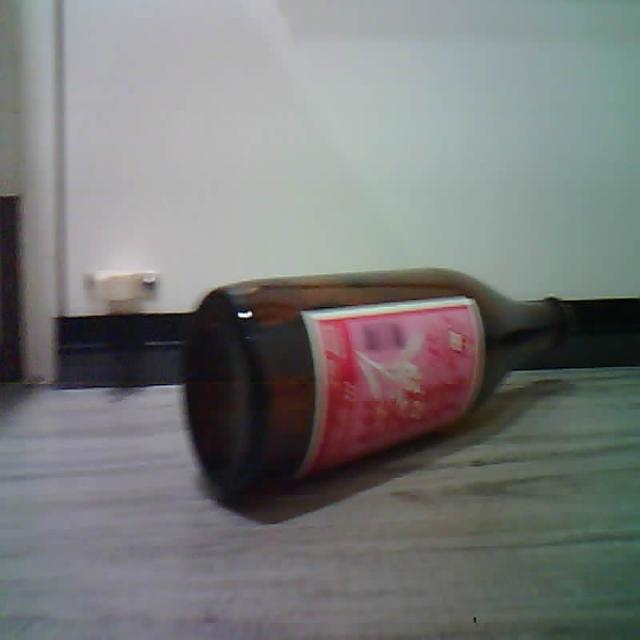bottle: (184, 269, 589, 499)
